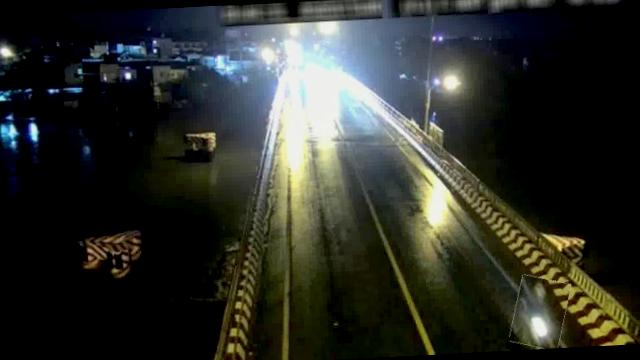Bike: (508, 274, 570, 349)
